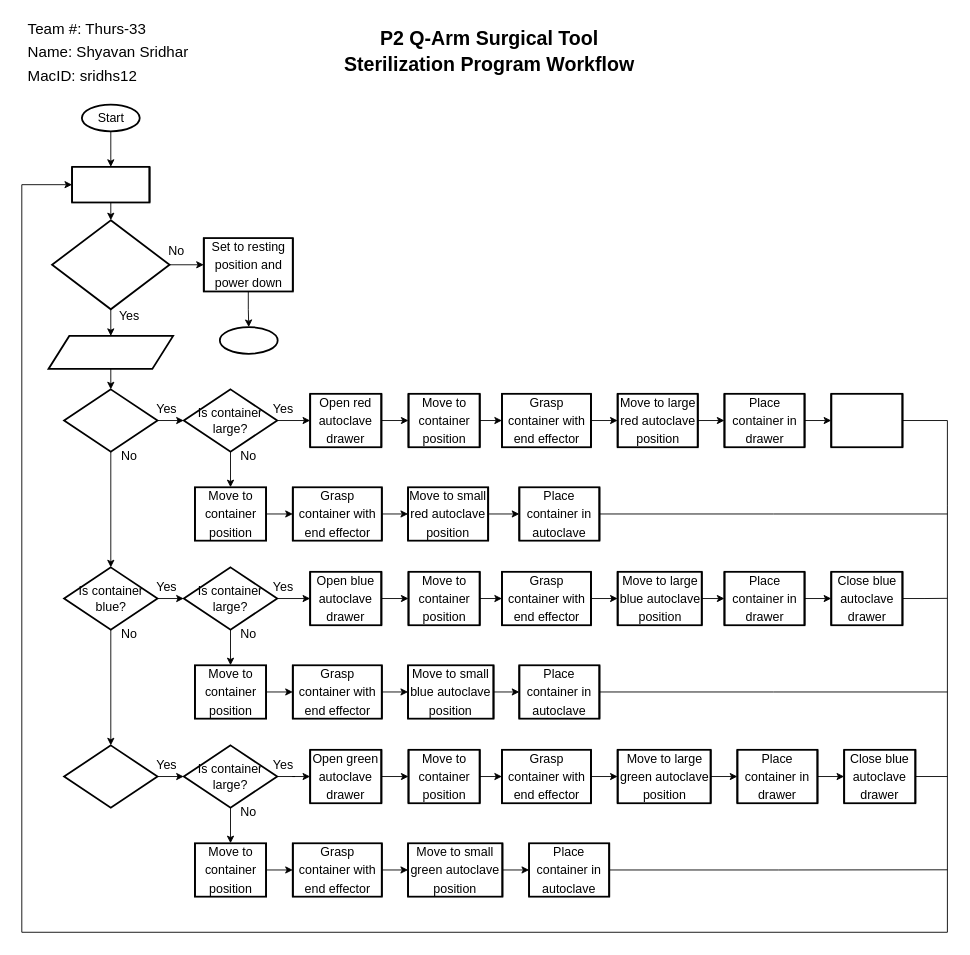
This 970x955 diagram has some shape labels left out. The box of each missing label's shape, as (x1, y1, x2, y2) in pixels:
Close red autoclave drawer: (830, 392, 903, 448)
End: (218, 326, 278, 354)
Get container ID: (47, 335, 174, 369)
Home robot position: (71, 166, 150, 203)
Is container green?: (63, 744, 158, 808)
Is container red?: (63, 388, 158, 452)
Unsterilized containers still present?: (51, 219, 170, 310)
